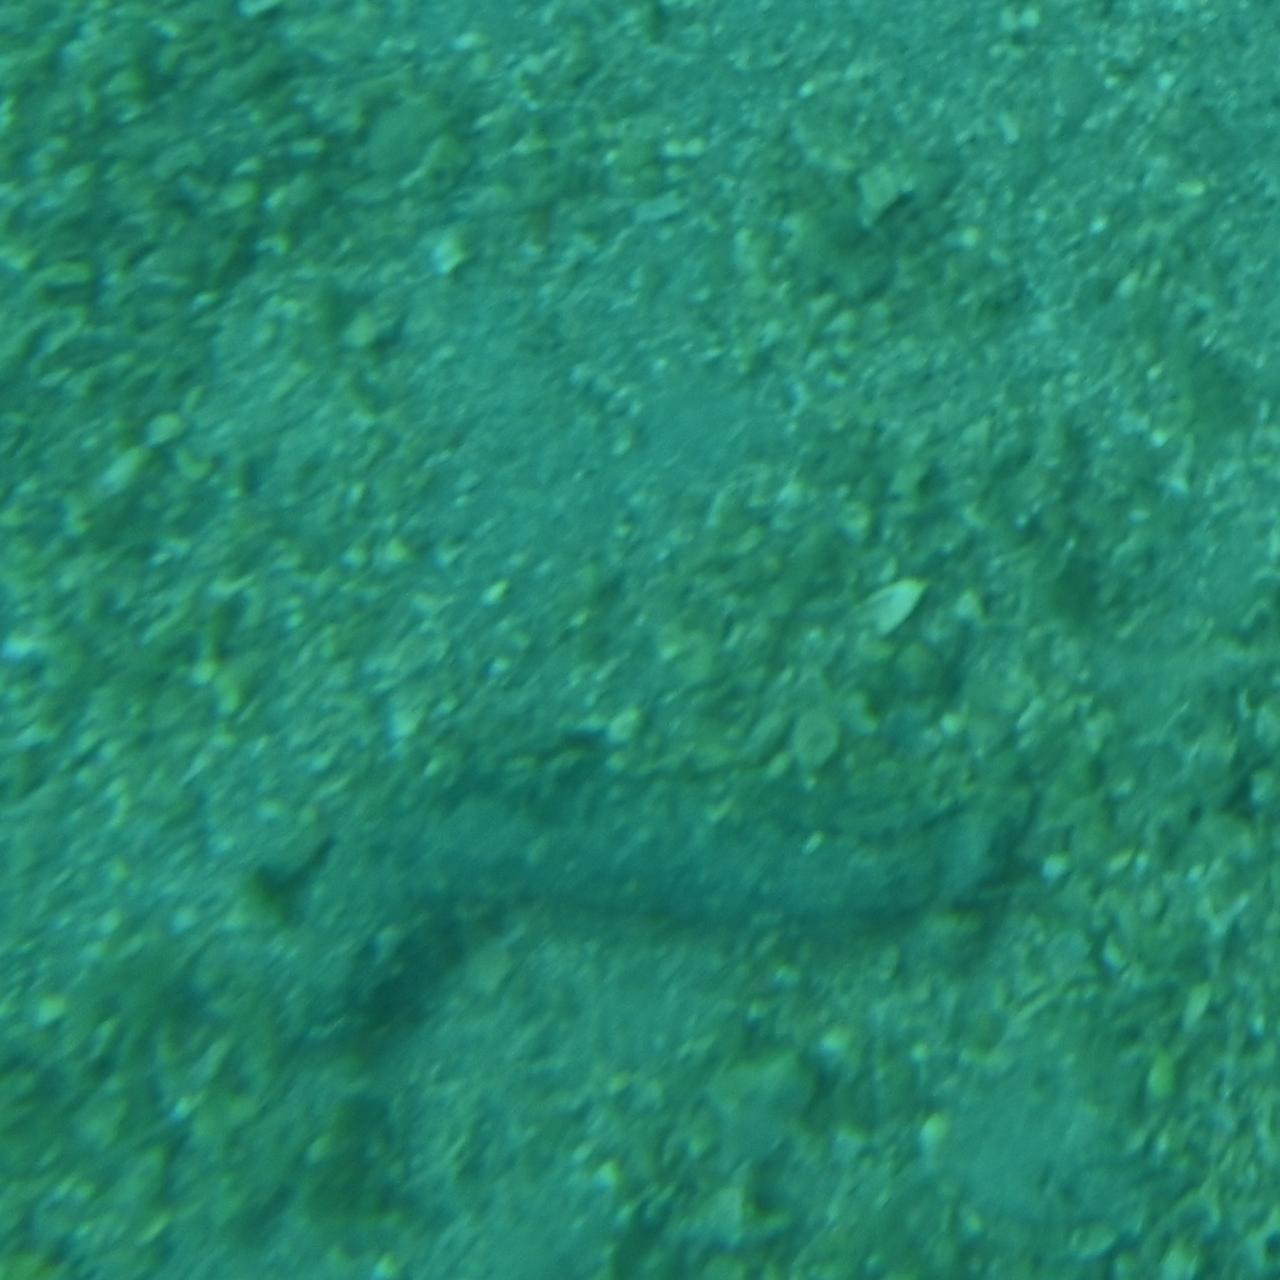Holothuria tubulosa: (244, 793, 1036, 1075)
